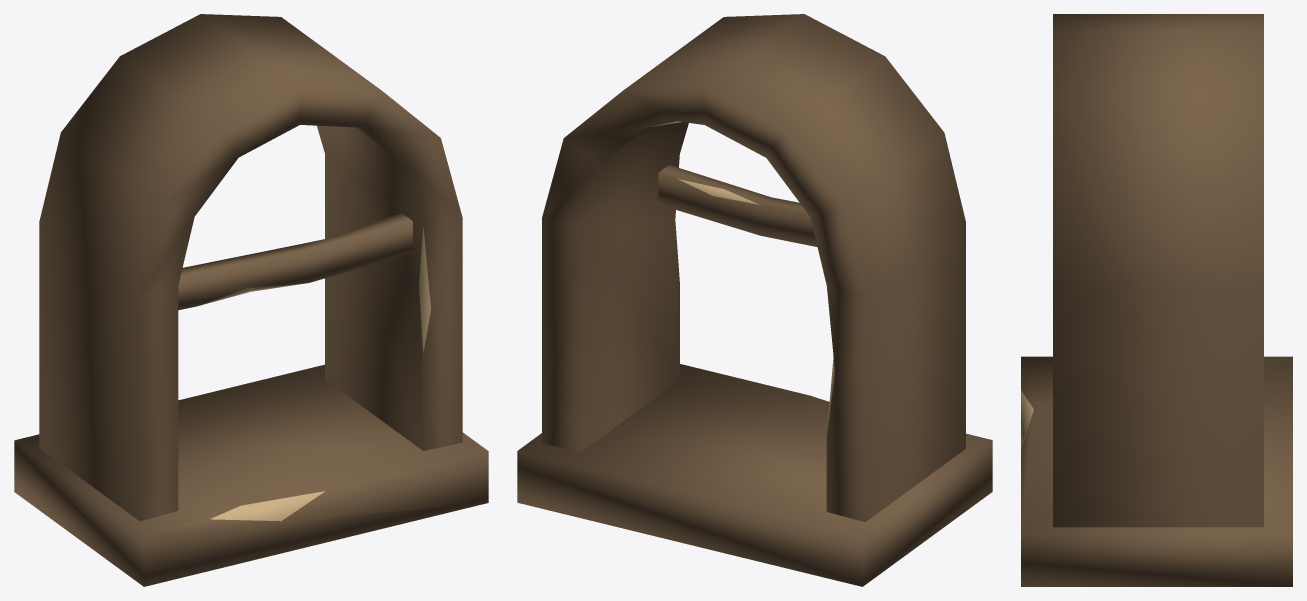
Rendered from rpgpp_ag_window_03b.fbx.
3 views of the same model, side by side, from view 1: azimuth 30°, elevation 25°; view 2: azimuth 150°, elevation 25°; view 3: azimuth 270°, elevation 25° (orthographic). The views are drawn at different scales.
Parts seen in each view (by area): view 1: rpgpp_ag_window_03b; view 2: rpgpp_ag_window_03b; view 3: rpgpp_ag_window_03b.
Part boxes in pixels (x1,y1,x2,y2): rpgpp_ag_window_03b: (14, 14, 488, 586); rpgpp_ag_window_03b: (517, 14, 992, 586); rpgpp_ag_window_03b: (1021, 14, 1292, 586).
Size of the model in its own units: 1.07 by 1.32 by 0.6966.
